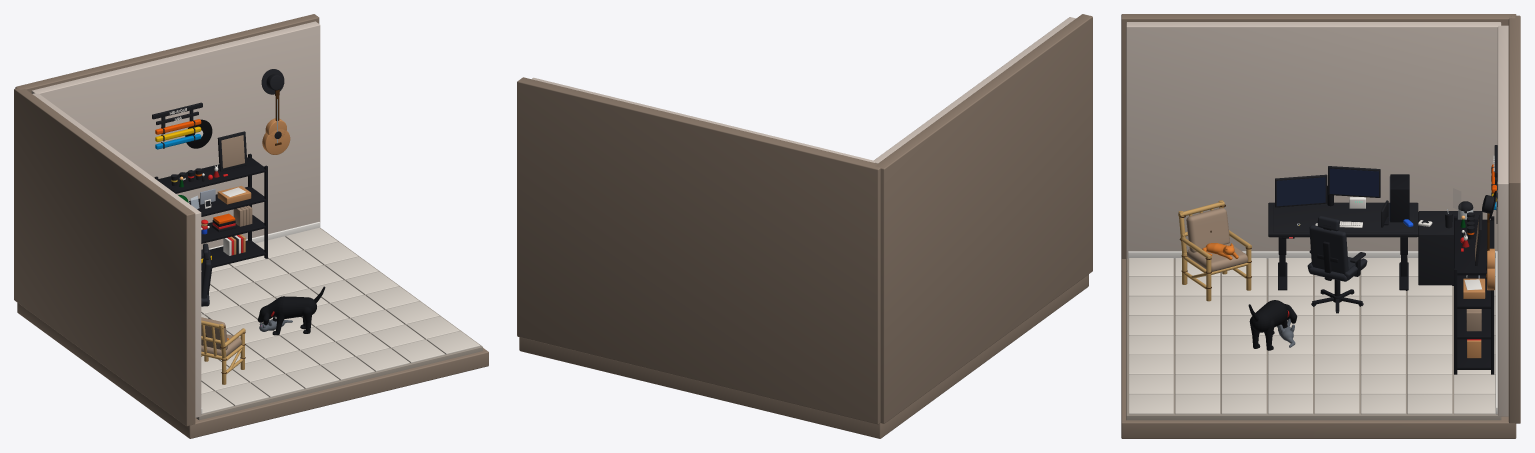
File: Escritorio.glb
3 views of the same model, side by side, from view 1: azimuth 30°, elevation 25°; view 2: azimuth 150°, elevation 25°; view 3: azimuth 270°, elevation 25° (orthographic). The views are drawn at different scales.
Visible parts, largest first — view 1: Env_Room_Structure, Furniture_Bookshelf_Frame, Interactive_Shelf_Collectibles, Interactive_Judo_Display, Furniture_BambooArmchair, Pet_BlackDog_Tereza, Interactive_Guitar_Music, Interactive_Shelf_Books_Manga, topChairModel; view 2: Env_Room_Structure; view 3: Env_Room_Structure, Furniture_StandingDesk, Furniture_Bookshelf_Frame, Furniture_BambooArmchair, Furniture_SideCabinet_Drinks, topChairModel, Interactive_PC_Hardware, Pet_BlackDog_Tereza, pcScreenModel, macScreenModel, Interactive_Shelf_Collectibles, Interactive_Monitors (+3 smaller).
Part boxes in pixels (<box>): Env_Room_Structure: <box>14,14,488,438</box>; Furniture_Bookshelf_Frame: <box>154,153,267,270</box>; Interactive_Shelf_Collectibles: <box>171,131,251,208</box>; Interactive_Judo_Display: <box>152,102,212,149</box>; Furniture_BambooArmchair: <box>201,317,245,384</box>; Pet_BlackDog_Tereza: <box>257,286,325,335</box>; Interactive_Guitar_Music: <box>261,69,290,154</box>; Interactive_Shelf_Books_Manga: <box>201,205,252,263</box>; topChairModel: <box>201,243,212,306</box>; Env_Room_Structure: <box>517,14,1092,438</box>; Env_Room_Structure: <box>1121,14,1520,438</box>; Furniture_StandingDesk: <box>1268,202,1418,313</box>; Furniture_Bookshelf_Frame: <box>1454,216,1494,374</box>; Furniture_BambooArmchair: <box>1178,200,1251,301</box>; Furniture_SideCabinet_Drinks: <box>1403,201,1482,285</box>; topChairModel: <box>1307,216,1367,281</box>; Interactive_PC_Hardware: <box>1349,174,1409,227</box>; Pet_BlackDog_Tereza: <box>1248,300,1297,350</box>; pcScreenModel: <box>1276,177,1325,206</box>; macScreenModel: <box>1329,168,1378,196</box>; Interactive_Shelf_Collectibles: <box>1460,212,1485,298</box>; Interactive_Monitors: <box>1275,166,1380,207</box>.
Bounding box in the file's own units: 4.73 × 3.36 × 4.73.
